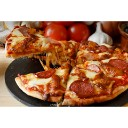pepperonipizza: (7, 26, 128, 102)
